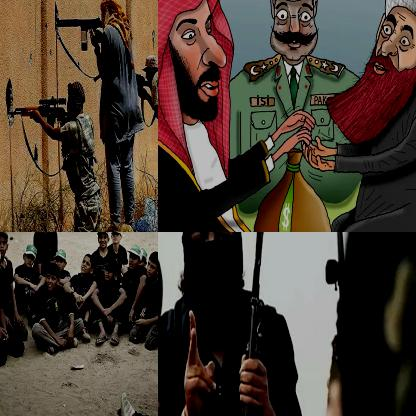rifle: (227, 232, 269, 415), (4, 98, 70, 138), (53, 12, 107, 50)
